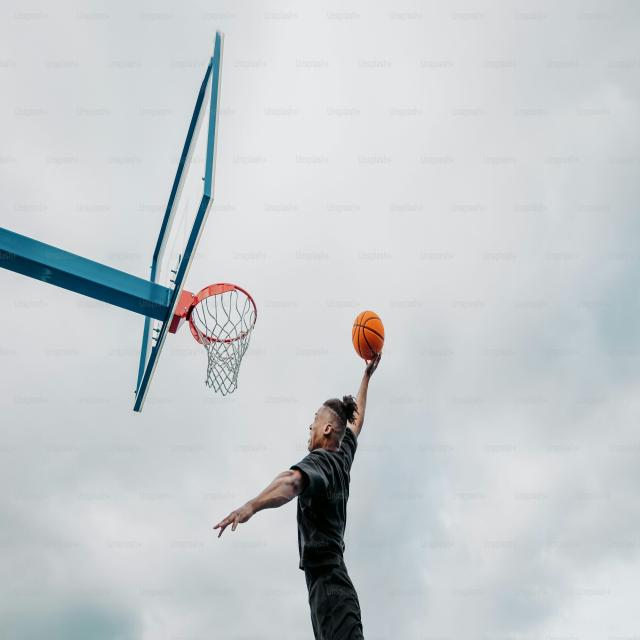basketball: (351, 310, 385, 361)
hoop: (190, 281, 253, 397)
